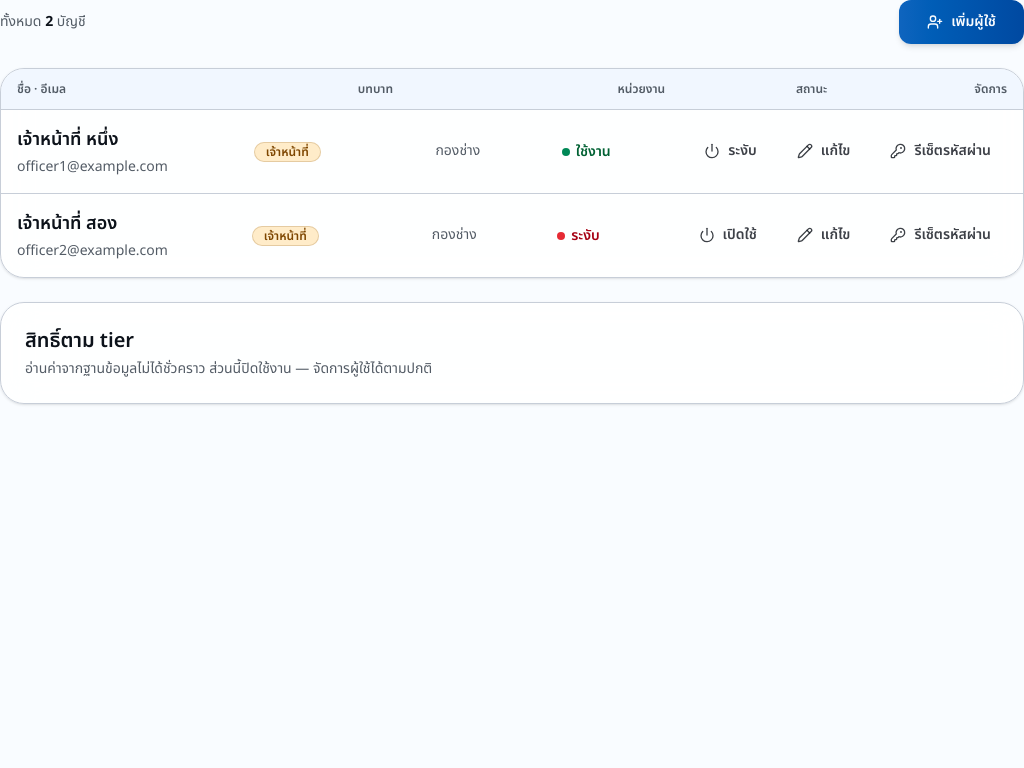
it: UsersClient ระงับบัญชี › action คืน error → แสดงใน FormError, dialog ปิด, ปุ่มกลับมากดได้
Click the button with aria-label "ระงับบัญชี" at {"x": 731, "y": 151}, box [688,129,773,173]
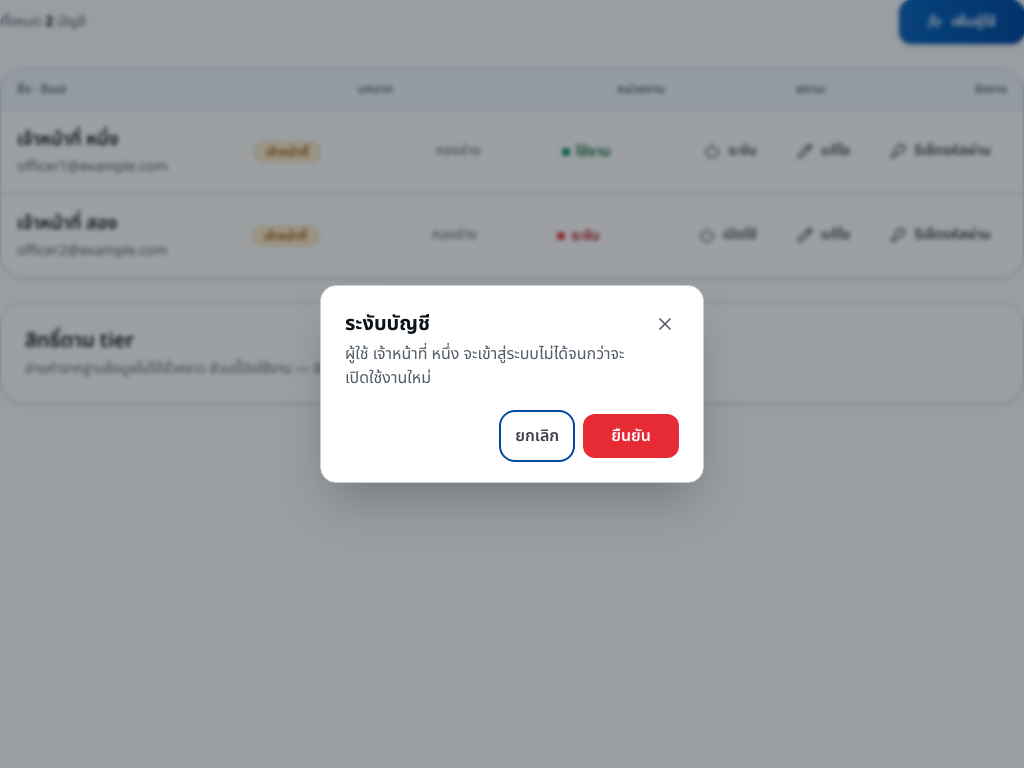
Click the button "ยืนยัน" at {"x": 631, "y": 436}, box [583,414,679,458]
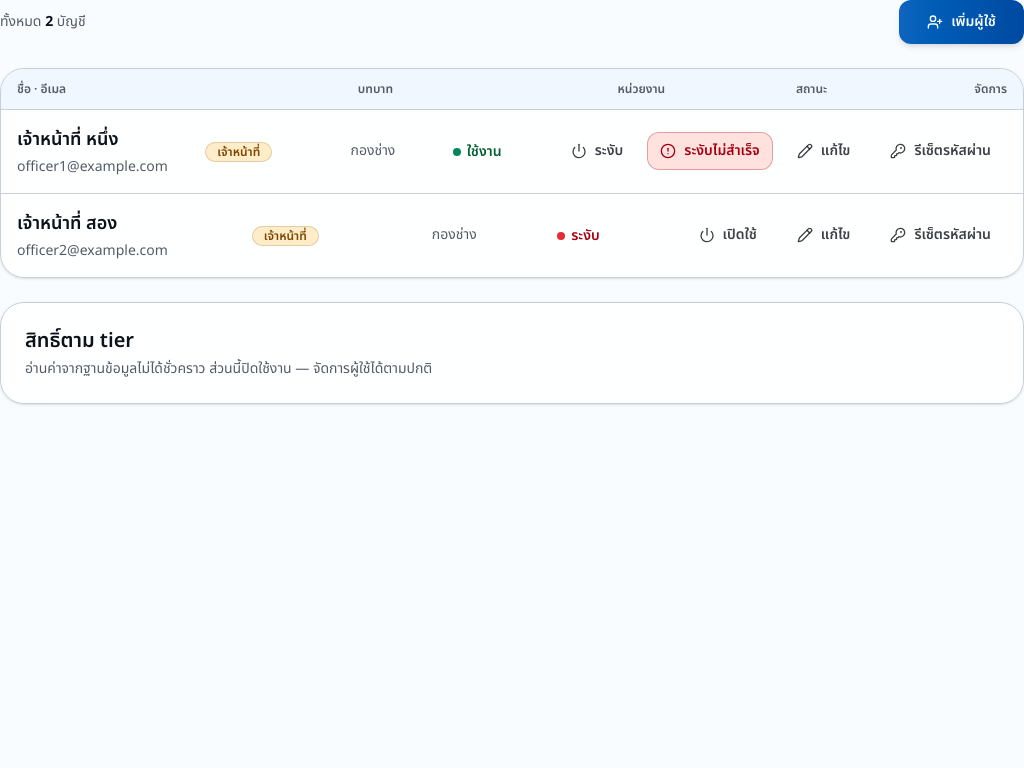
Check: the button with aria-label "ระงับบัญชี" is enabled, box [555,129,639,173]
Check: the message reads "ระงับไม่สำเร็จ", box [684,140,760,161]
